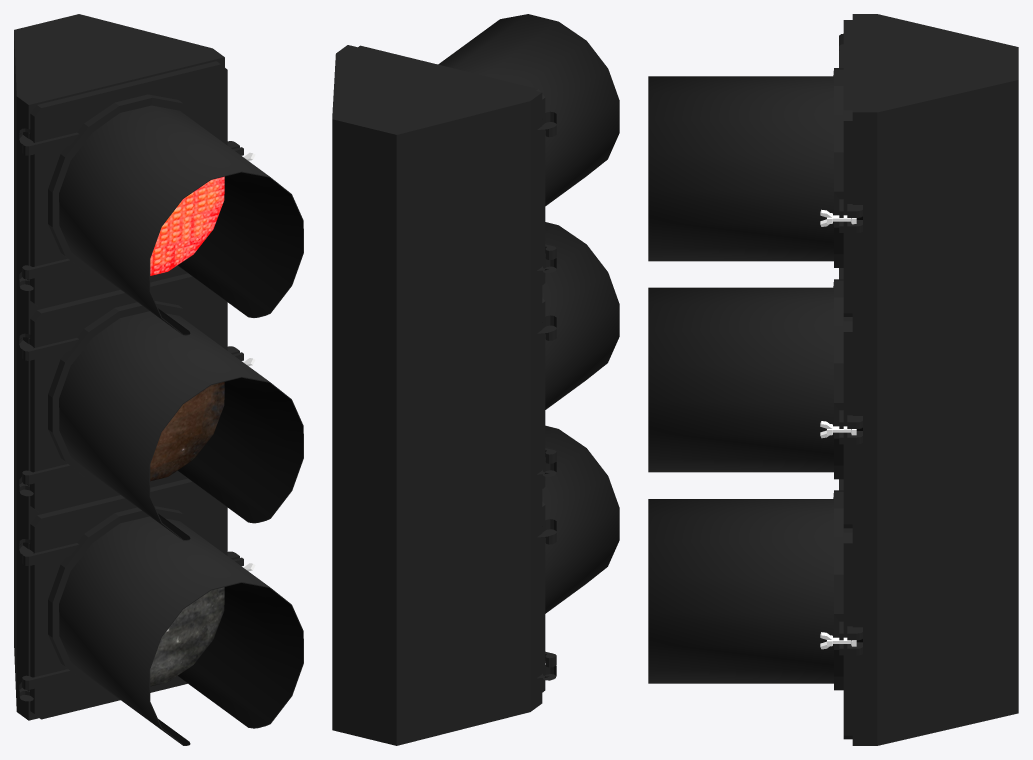
The model's file is red.gltf.
The picture shows the model from 3 angles, left to right: view 1: azimuth 30°, elevation 25°; view 2: azimuth 150°, elevation 25°; view 3: azimuth 270°, elevation 25°; orthographic projection. The views are drawn at different scales.
Visible parts, largest first — view 1: Cylinder.299; view 2: Cylinder.299; view 3: Cylinder.299.
Boxes of the visible parts, bbox=[...] form: Cylinder.299: bbox=[14, 14, 303, 745]; Cylinder.299: bbox=[332, 14, 619, 745]; Cylinder.299: bbox=[648, 14, 1018, 745].
Size of the model in its own units: 0.3053 by 0.8096 by 0.4291.
7 materials, 3 textured.
